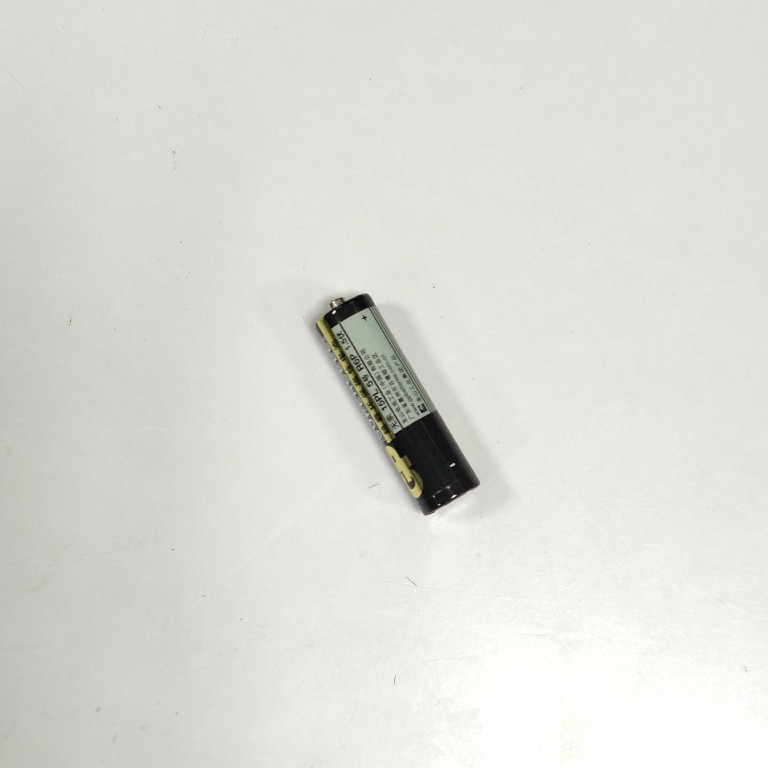charge: (309, 287, 484, 522)
